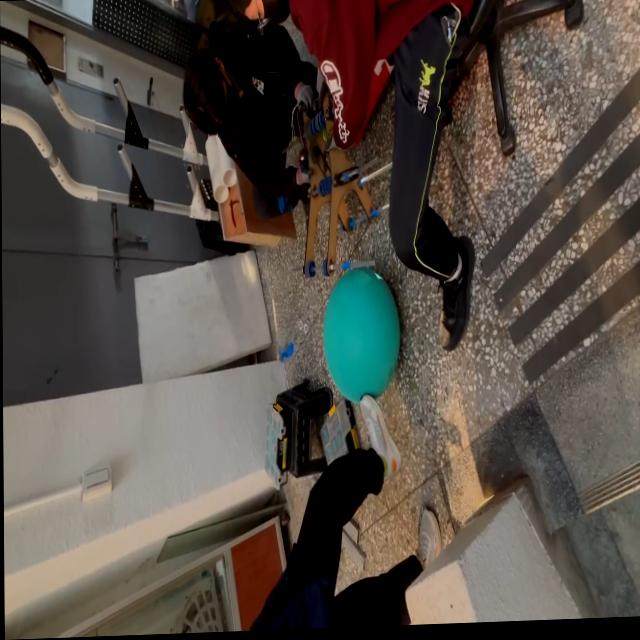ALGAE: (321, 264, 402, 407)
